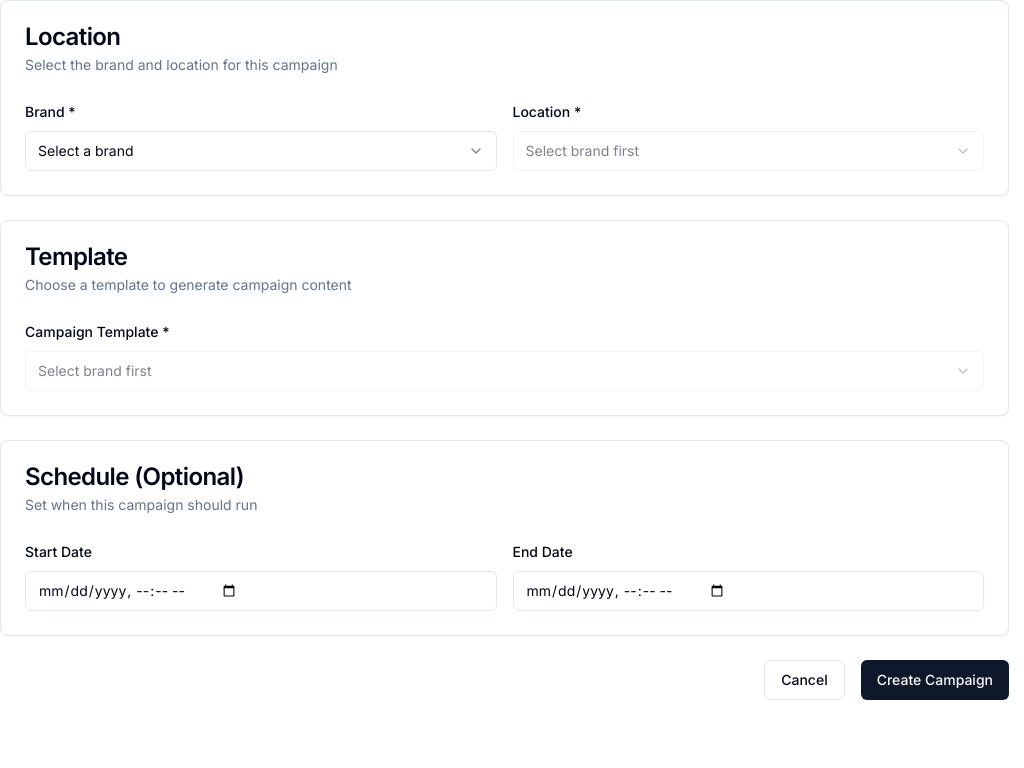
CampaignForm › form validation › should show error when submitting without brand
This screenshot has width=1024, height=768.
Click the button "Create Campaign".
click(935, 680)  # box 861,660 -> 1009,700
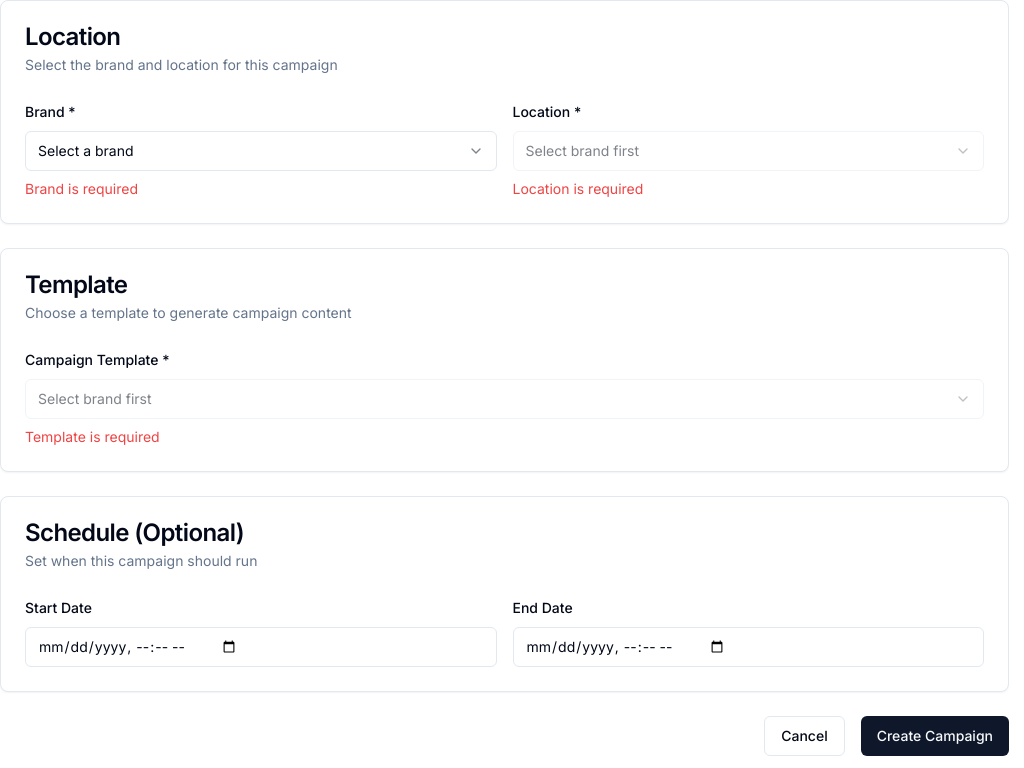
Result: the text "Brand is required" is shown at 25,180 -> 138,197
